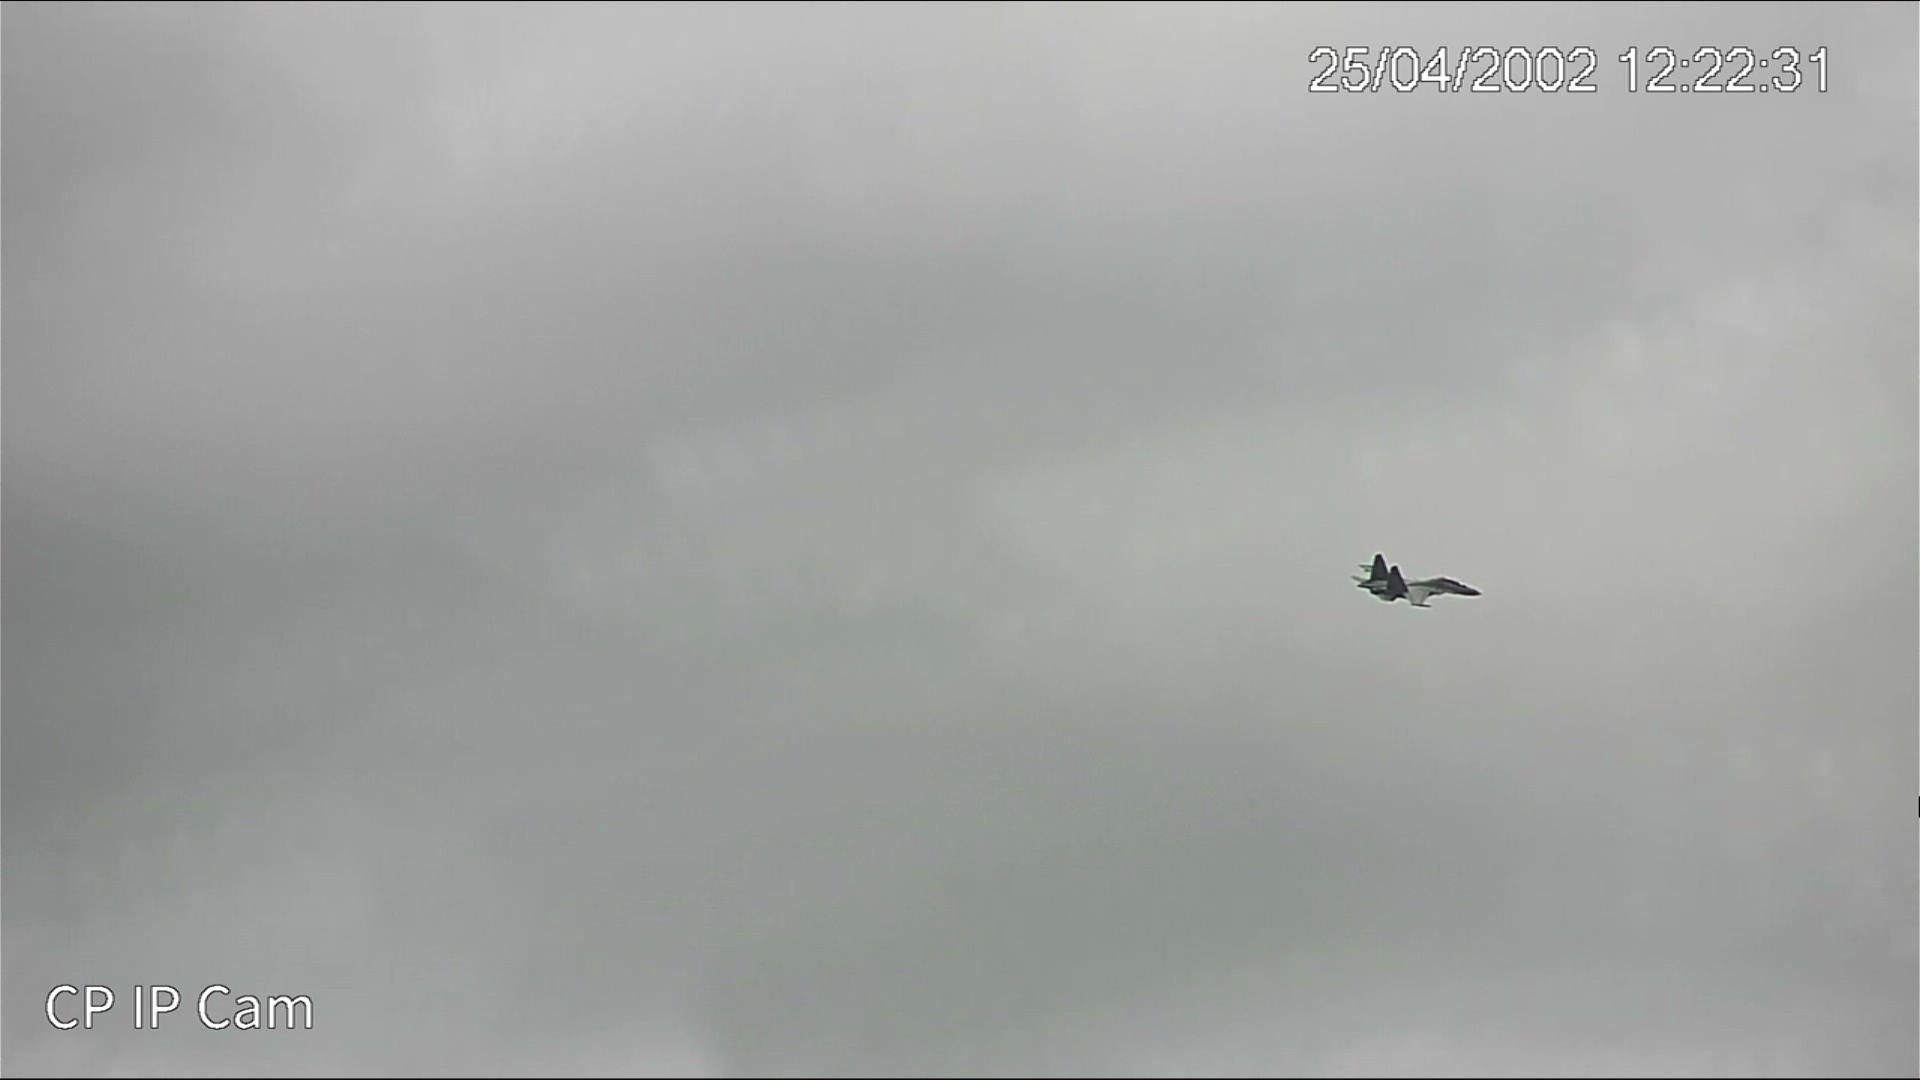SU_30: (1346, 551, 1489, 605)
